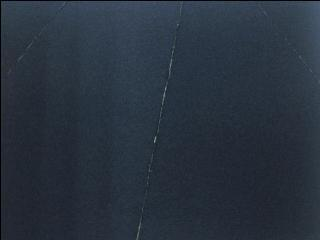crack: (129, 0, 192, 240), (0, 0, 72, 77), (255, 1, 320, 82)
